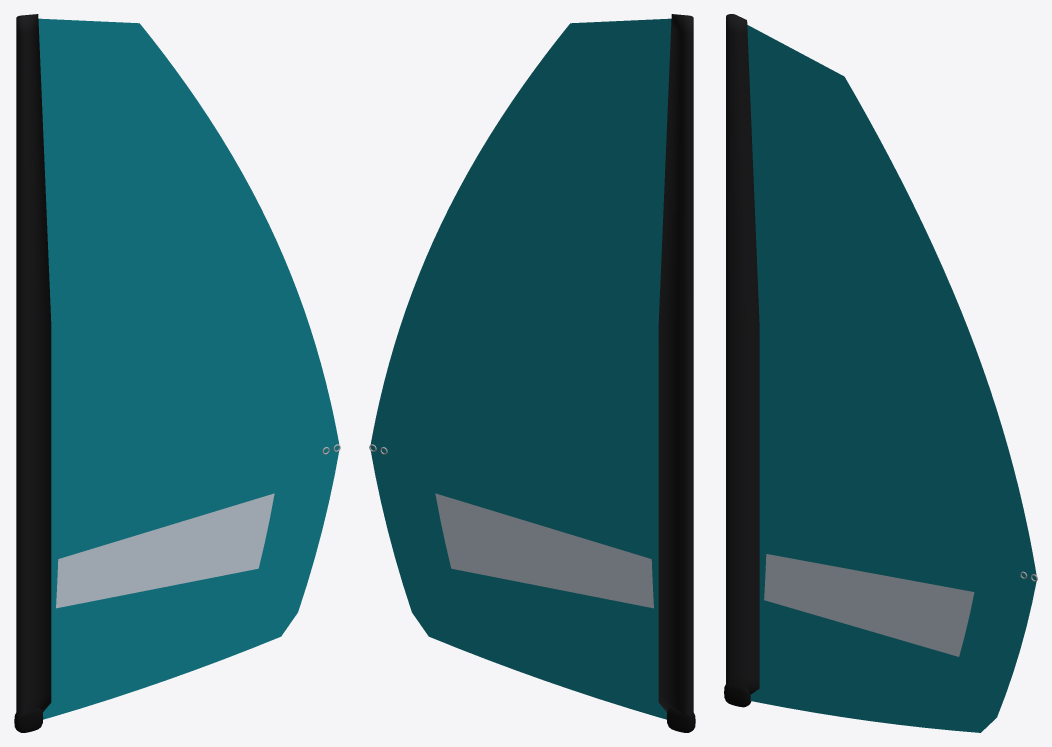
File: s3kauai_slalom_7_6.glb
The picture shows the model from 3 angles, left to right: view 1: azimuth 30°, elevation 25°; view 2: azimuth 150°, elevation 25°; view 3: azimuth 330°, elevation 25°; orthographic projection. The views are drawn at different scales.
Visible parts, largest first — view 1: SailCloth, TackFairing; view 2: SailCloth, TackFairing; view 3: SailCloth, TackFairing.
Part boxes in pixels (x1=…): SailCloth: x1=16, y1=14, x2=339, y2=719; TackFairing: x1=14, y1=708, x2=43, y2=732; SailCloth: x1=370, y1=14, x2=693, y2=719; TackFairing: x1=666, y1=708, x2=695, y2=732; SailCloth: x1=726, y1=14, x2=1036, y2=732; TackFairing: x1=724, y1=684, x2=751, y2=707.
Size of the model in its own units: 2.22 by 4.68 by 0.08.
